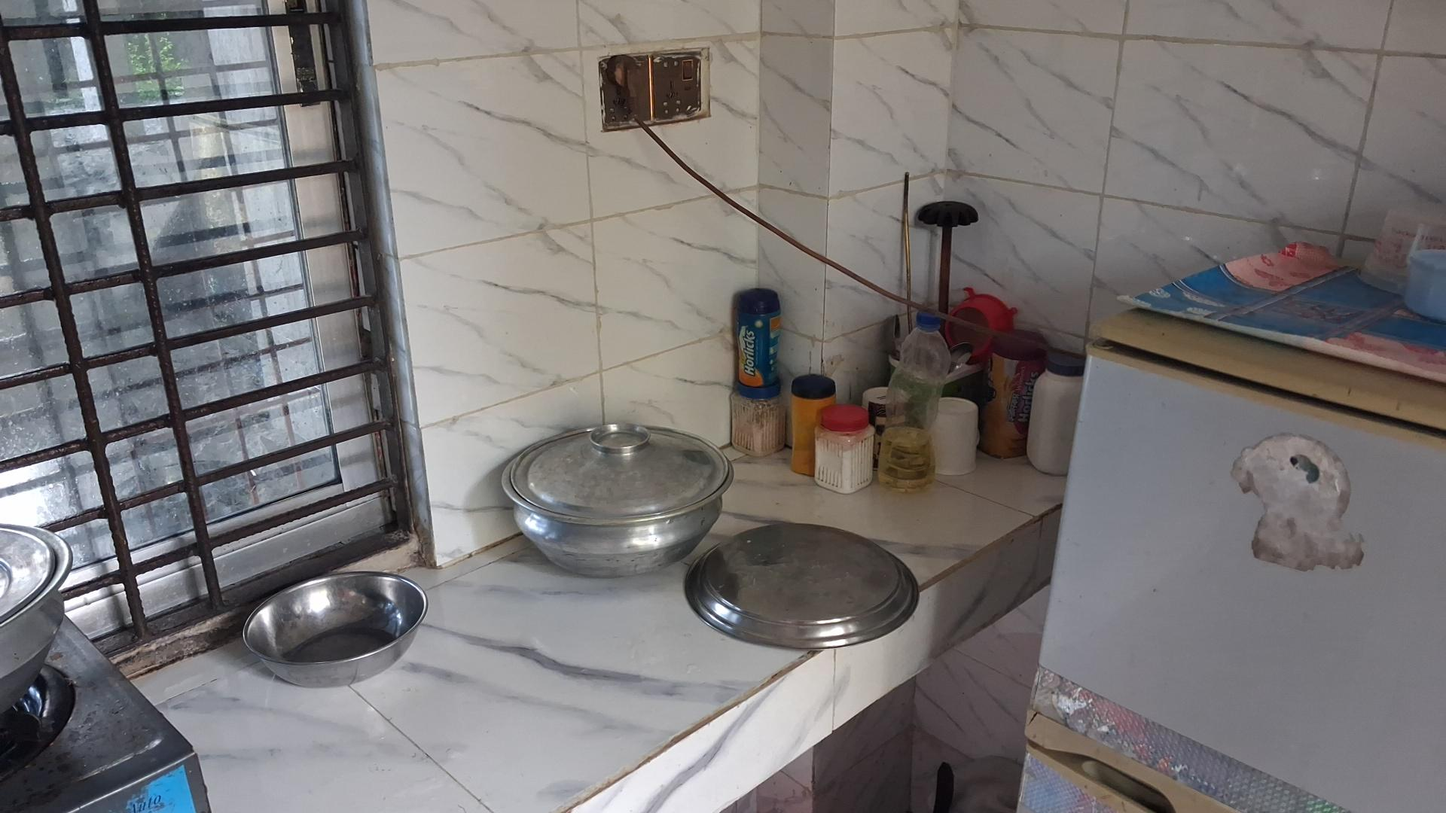Bottle: (870, 305, 940, 495)
Bowl: (242, 572, 428, 688)
Cup: (930, 394, 976, 482)
Jar: (976, 339, 1040, 453), (1030, 362, 1089, 470), (730, 295, 794, 389), (814, 406, 875, 494), (785, 377, 836, 473), (731, 391, 780, 453)
Plate: (691, 524, 917, 645)
Pot: (502, 422, 734, 578)
